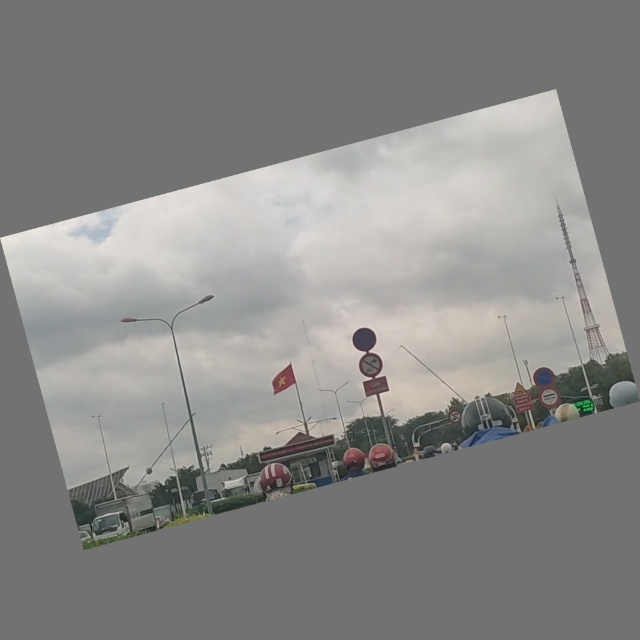P.107: (447, 410, 463, 425)
P.111: (357, 351, 386, 381)
P.129: (537, 386, 562, 410)
P.130: (350, 325, 380, 355)
P.131a: (531, 365, 557, 391)
W.221b: (510, 380, 529, 397)
